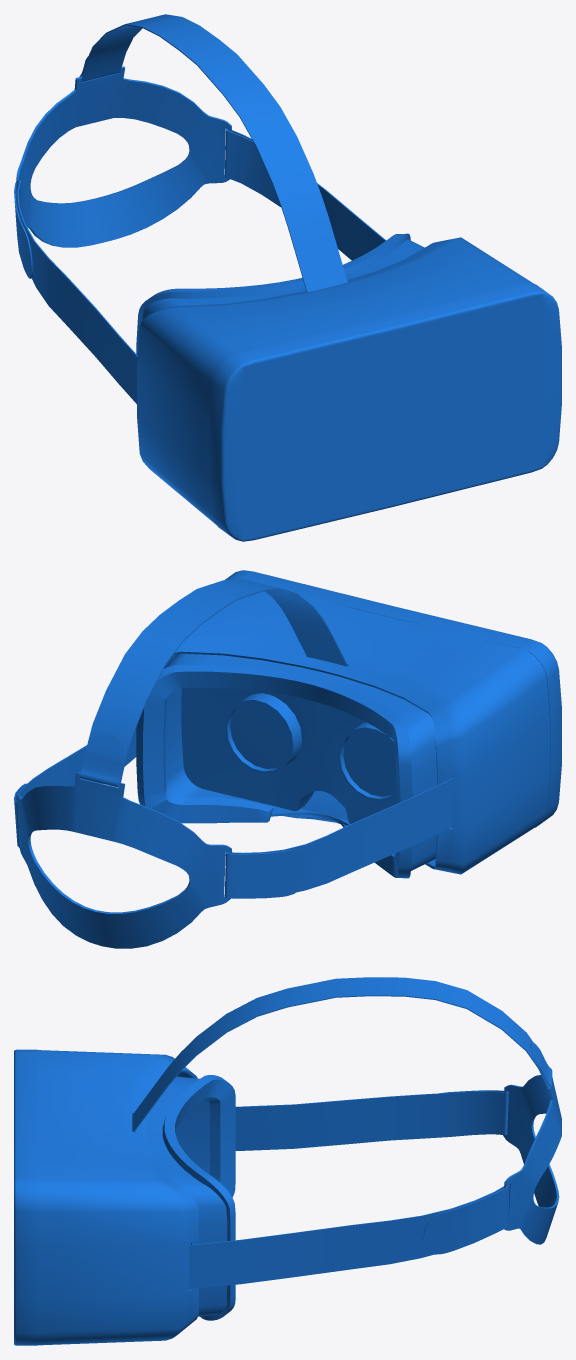
The model's file is Headset.fbx.
3 views of the same model, one above another, from view 1: azimuth 30°, elevation 25°; view 2: azimuth 150°, elevation 25°; view 3: azimuth 270°, elevation 25° (orthographic). The views are drawn at different scales.
Visible parts, largest first — view 1: Body; view 2: Body; view 3: Body.
Part boxes in pixels (x1=…): Body: x1=14, y1=14, x2=561, y2=541; Body: x1=14, y1=570, x2=561, y2=948; Body: x1=14, y1=977, x2=561, y2=1345.
Size of the model in its own units: 131 by 118 by 200.
